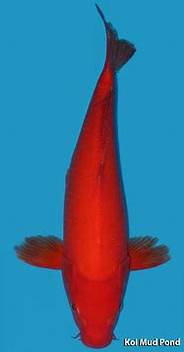red: (16, 4, 170, 348)
